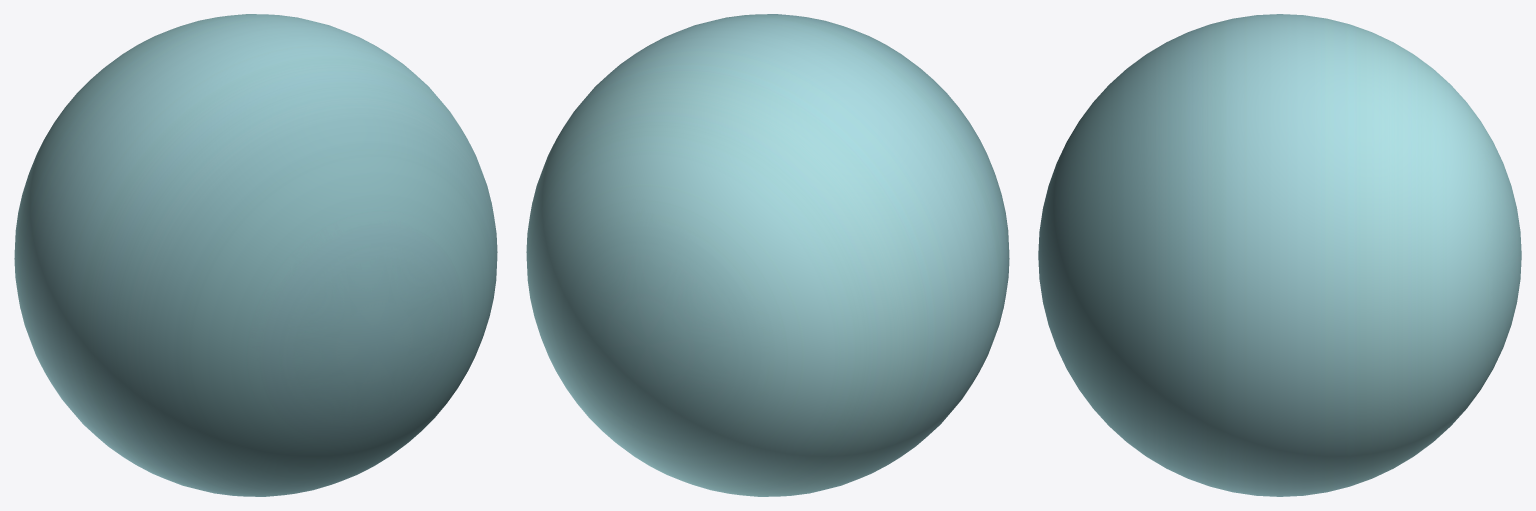
The model's file is uranus_body.obj.
The picture shows the model from 3 angles, left to right: view 1: azimuth 30°, elevation 25°; view 2: azimuth 150°, elevation 25°; view 3: azimuth 270°, elevation 25°; orthographic projection.
Visible parts, largest first — view 1: Uranus_body; view 2: Uranus_body; view 3: Uranus_body.
Part boxes in pixels (<box>): Uranus_body: <box>14,14,497,496</box>; Uranus_body: <box>526,14,1009,496</box>; Uranus_body: <box>1038,14,1521,496</box>.
Size of the model in its own units: 88213 by 88213 by 88213.
Materials: 1 (1 with a texture image).
